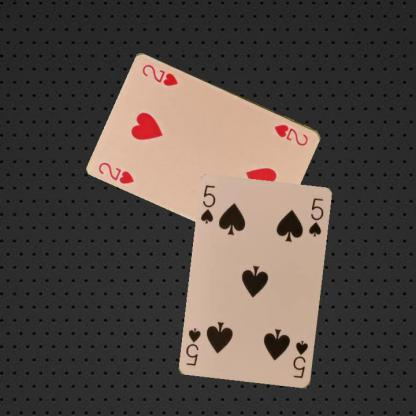2h: (96, 160, 136, 186), (272, 121, 310, 147)
5s: (290, 338, 310, 380), (198, 182, 217, 226)
